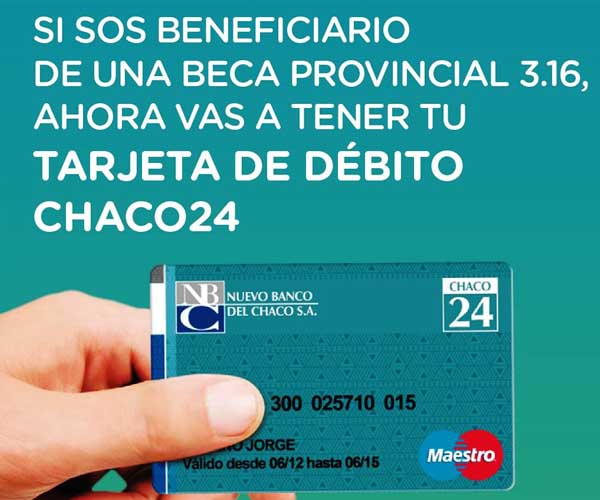tarjeta: (149, 261, 515, 492)
